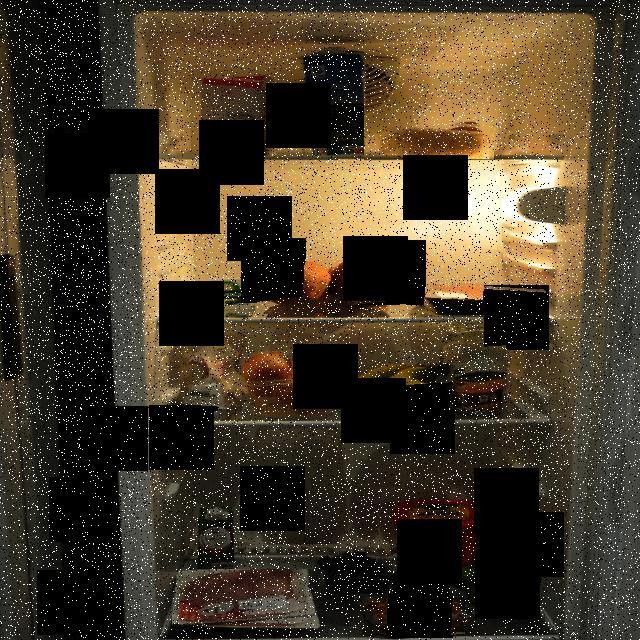banana: (340, 364, 464, 417)
beef: (400, 282, 546, 316)
blueberries: (306, 544, 396, 594)
butter: (391, 500, 486, 562)
corn: (456, 374, 506, 416)
flour: (172, 338, 250, 412)
goat_cheese: (195, 276, 257, 310)
ham: (172, 569, 322, 630)
heavy_cream: (198, 508, 234, 572)
lime: (393, 553, 525, 606)
milk: (293, 43, 364, 165)
onion: (242, 352, 338, 416)
potato: (390, 119, 494, 159)
shrimp: (363, 597, 467, 638)
sugar: (202, 74, 280, 156), (441, 321, 506, 406)
sweet_potato: (258, 260, 398, 316)
